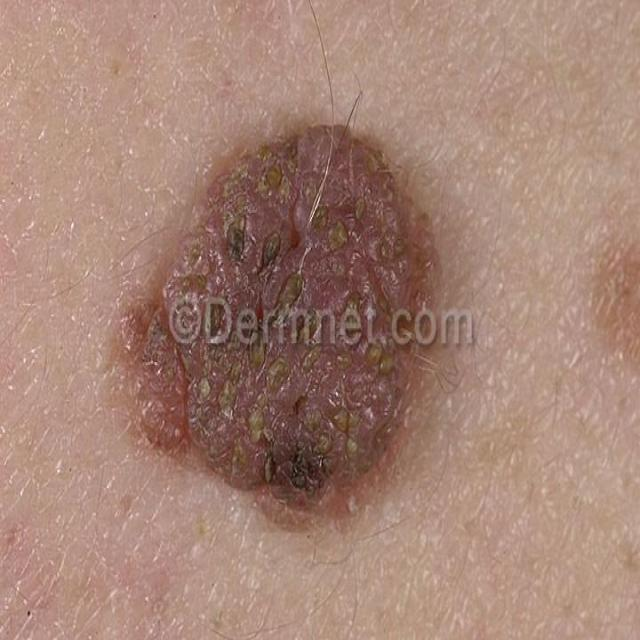Eczema: (112, 106, 434, 536)
